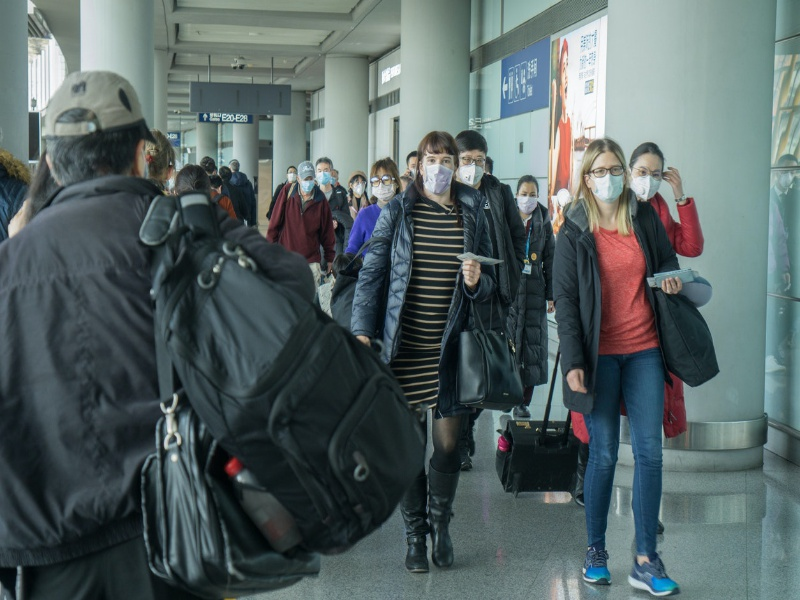ManaoArotava: (626, 127, 674, 218), (580, 135, 633, 211), (411, 131, 461, 210), (450, 116, 489, 194), (363, 156, 403, 203), (512, 166, 544, 217), (294, 156, 323, 207)
